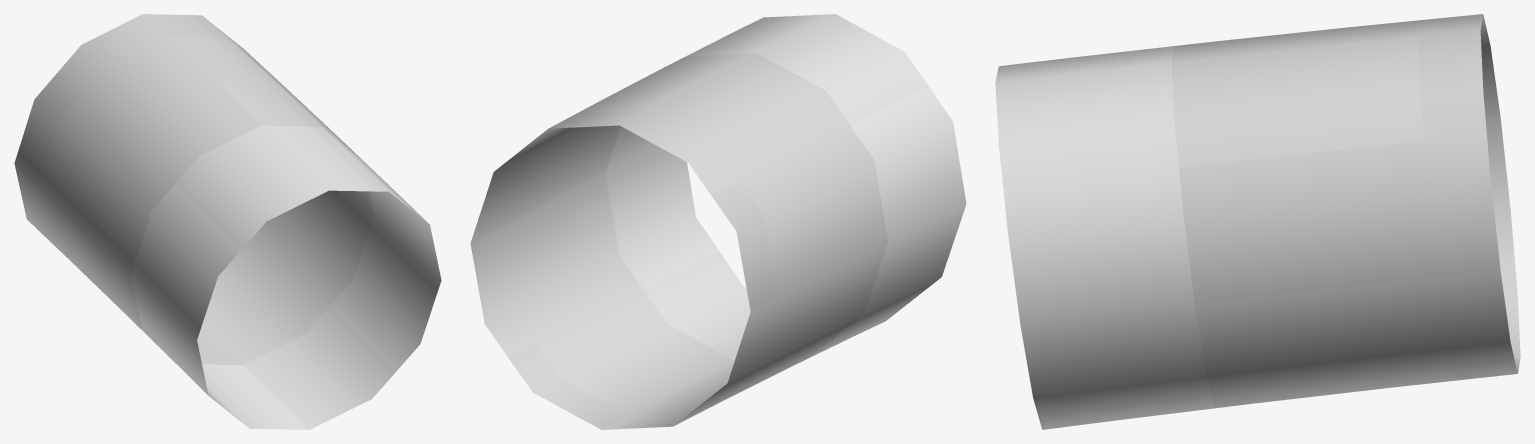
Rendered from luminairearm_caltrans12ft_c5.obj.
3 views of the same model, side by side, from view 1: azimuth 30°, elevation 25°; view 2: azimuth 150°, elevation 25°; view 3: azimuth 270°, elevation 25° (orthographic). The views are drawn at different scales.
Parts seen in each view (by area): view 1: luminairearm_caltrans12ft_c5; view 2: luminairearm_caltrans12ft_c5; view 3: luminairearm_caltrans12ft_c5.
Boxes of the visible parts, bbox=[...] form: luminairearm_caltrans12ft_c5: bbox=[14, 14, 441, 429]; luminairearm_caltrans12ft_c5: bbox=[470, 14, 966, 429]; luminairearm_caltrans12ft_c5: bbox=[995, 14, 1520, 429].
Bounding box in the file's own units: 0.1874 × 0.2152 × 0.2677.
